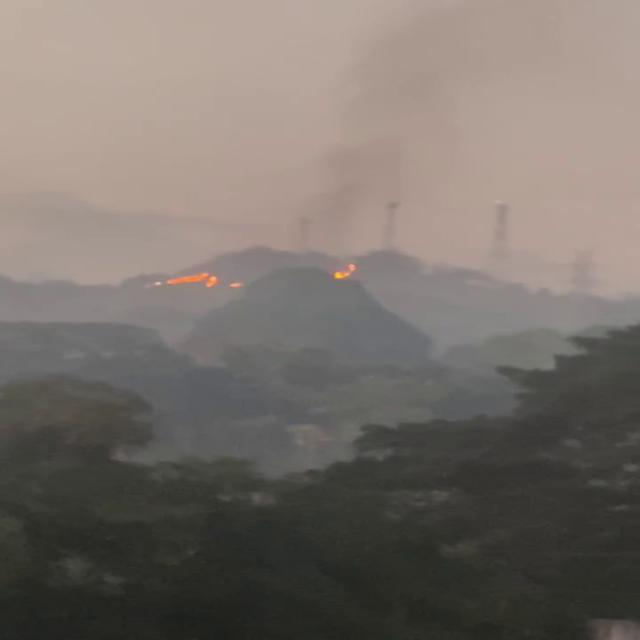Fire: (156, 267, 228, 289), (329, 258, 359, 284)
Smoke: (250, 1, 640, 286)
